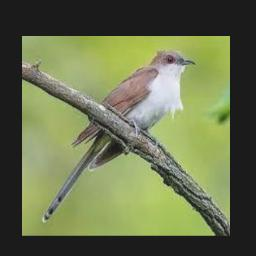Cuckoo: (42, 50, 195, 222)
